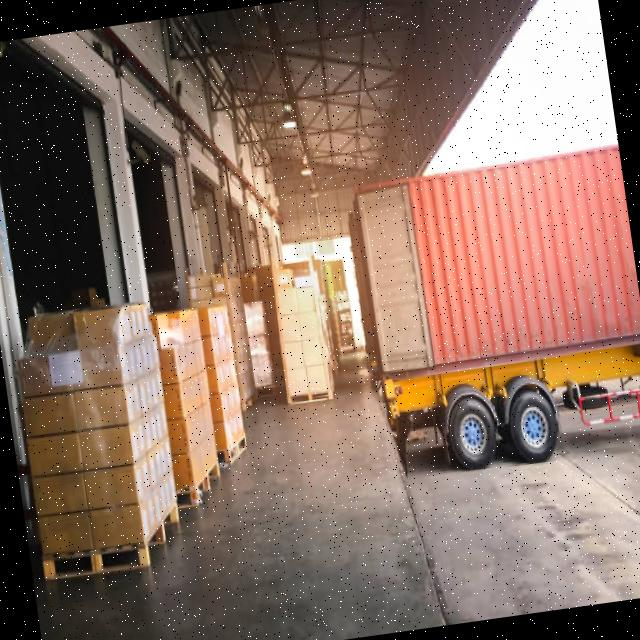Wooden-Pallets: (42, 502, 183, 588), (194, 441, 231, 521), (277, 388, 334, 424)
